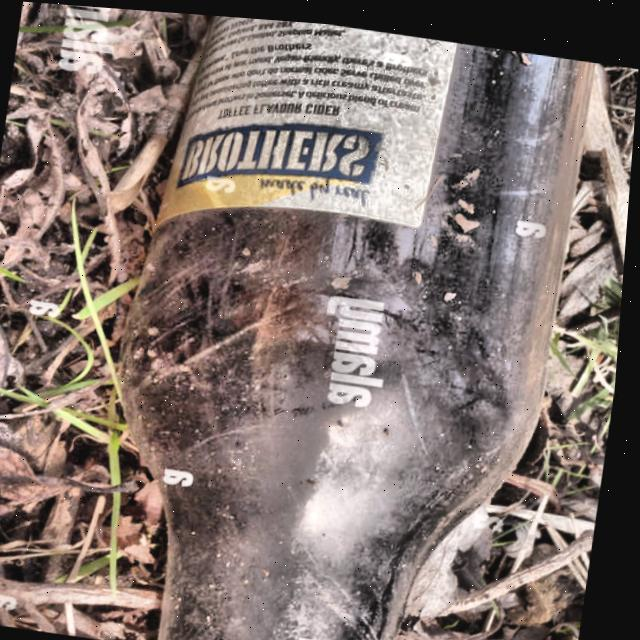glass: (72, 6, 625, 640)
